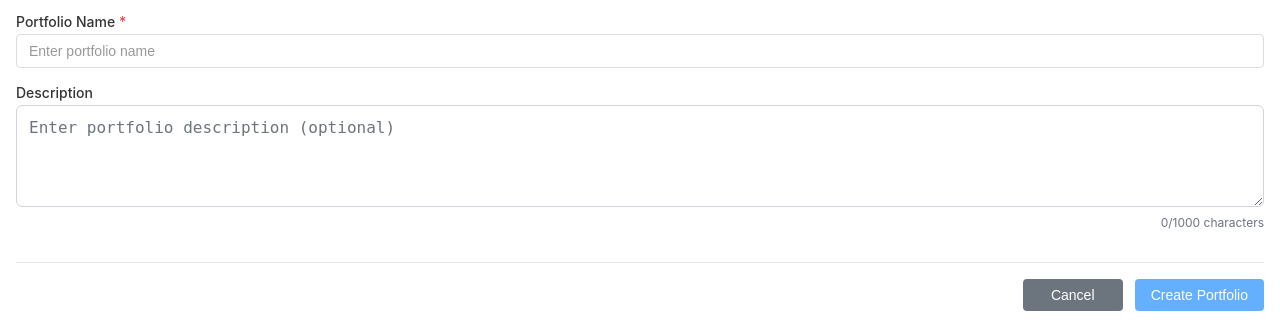
Test: PortfolioForm › Form Submission › enables submit button when form is valid
The width and height of the screenshot is (1280, 328).
Type "Valid Portfolio Name" into the field labelled "Portfolio Name *" at (640, 51), box [16,34,1264,68]
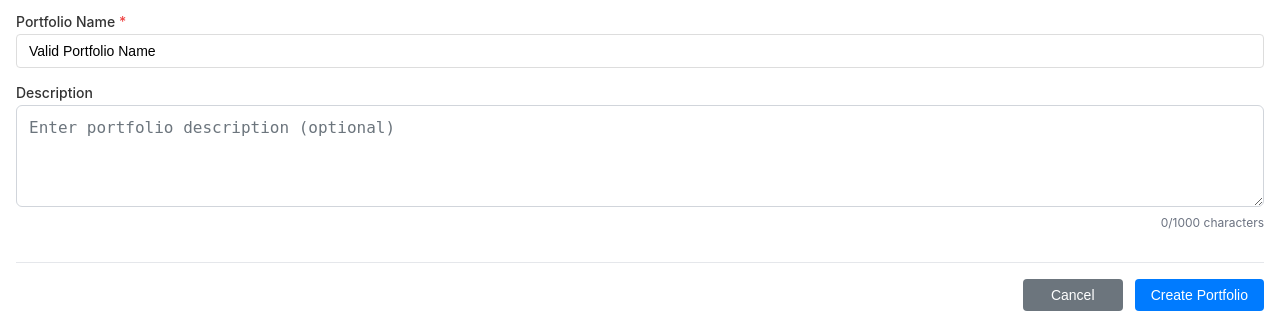
Now the button "Create Portfolio" is enabled, box [1135,279,1264,311]
